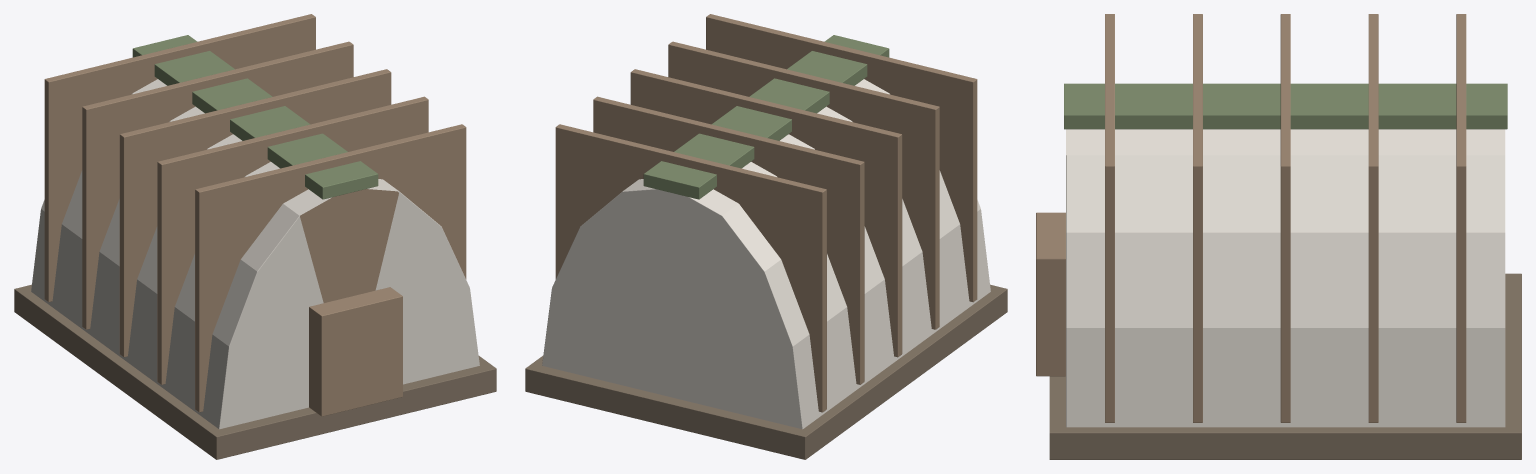
File: House_Meso_c.glb
The picture shows the model from 3 angles, left to right: view 1: azimuth 30°, elevation 25°; view 2: azimuth 150°, elevation 25°; view 3: azimuth 270°, elevation 25°; orthographic projection. The views are drawn at different scales.
Visible parts, largest first — view 1: House_Meso_c; view 2: House_Meso_c; view 3: House_Meso_c.
Part boxes in pixels (bbox=[...]): House_Meso_c: bbox=[14, 14, 496, 459]; House_Meso_c: bbox=[525, 14, 1007, 459]; House_Meso_c: bbox=[1036, 14, 1521, 459].
Size of what is drawn, in the model's own units: 3.78 by 3.21 by 4.87.
